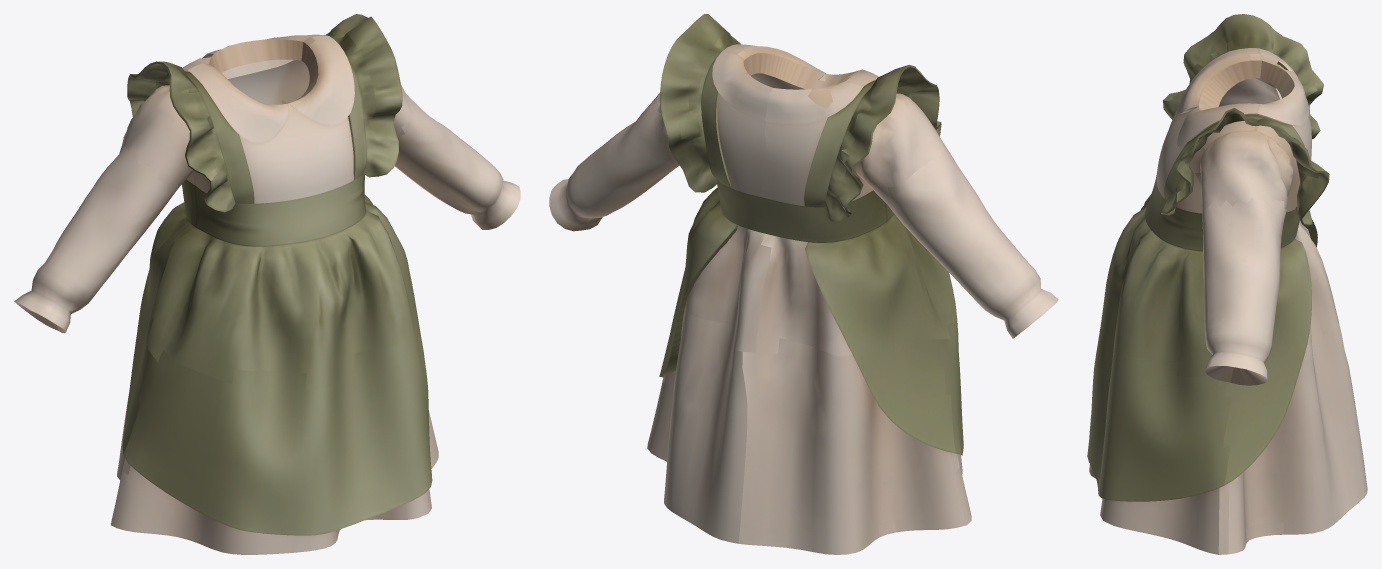
File: dress3.glb
3 renders of one model, left to right at view 1: azimuth 30°, elevation 25°; view 2: azimuth 150°, elevation 25°; view 3: azimuth 270°, elevation 25°, orthographic. The views are drawn at different scales.
Visible parts, largest first — view 1: s4studio_mesh_1; view 2: s4studio_mesh_1; view 3: s4studio_mesh_1.
Part boxes in pixels (<box>): s4studio_mesh_1: <box>14,14,520,554</box>; s4studio_mesh_1: <box>549,14,1058,554</box>; s4studio_mesh_1: <box>1087,14,1367,554</box>.
Size of the model in its own units: 0.5354 by 0.4694 by 0.2788.
1 material, 1 textured.
